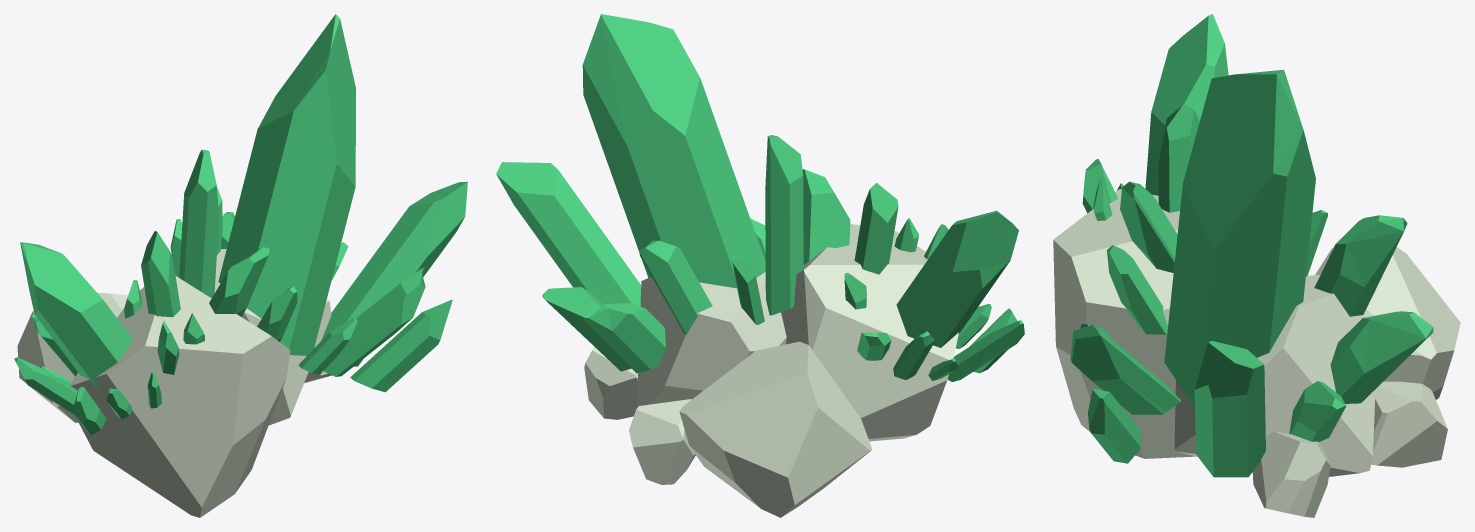
The model's file is CrystalRock2.fbx.
The picture shows the model from 3 angles, left to right: view 1: azimuth 30°, elevation 25°; view 2: azimuth 150°, elevation 25°; view 3: azimuth 270°, elevation 25°; orthographic projection. The views are drawn at different scales.
Visible parts, largest first — view 1: Cylinder.038; view 2: Cylinder.038; view 3: Cylinder.038.
Part boxes in pixels (<box>): Cylinder.038: <box>14,14,467,517</box>; Cylinder.038: <box>496,14,1024,517</box>; Cylinder.038: <box>1053,14,1460,517</box>.
Bounding box in the file's own units: 279 × 221 × 168.
